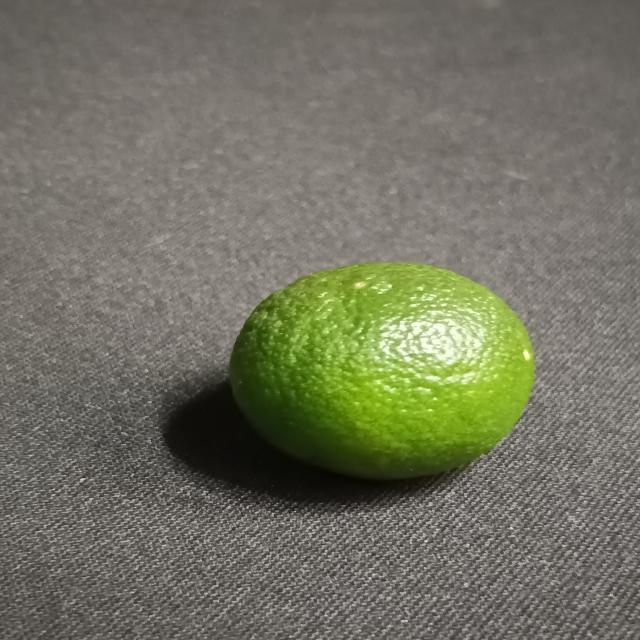heathy: (225, 260, 546, 487)
